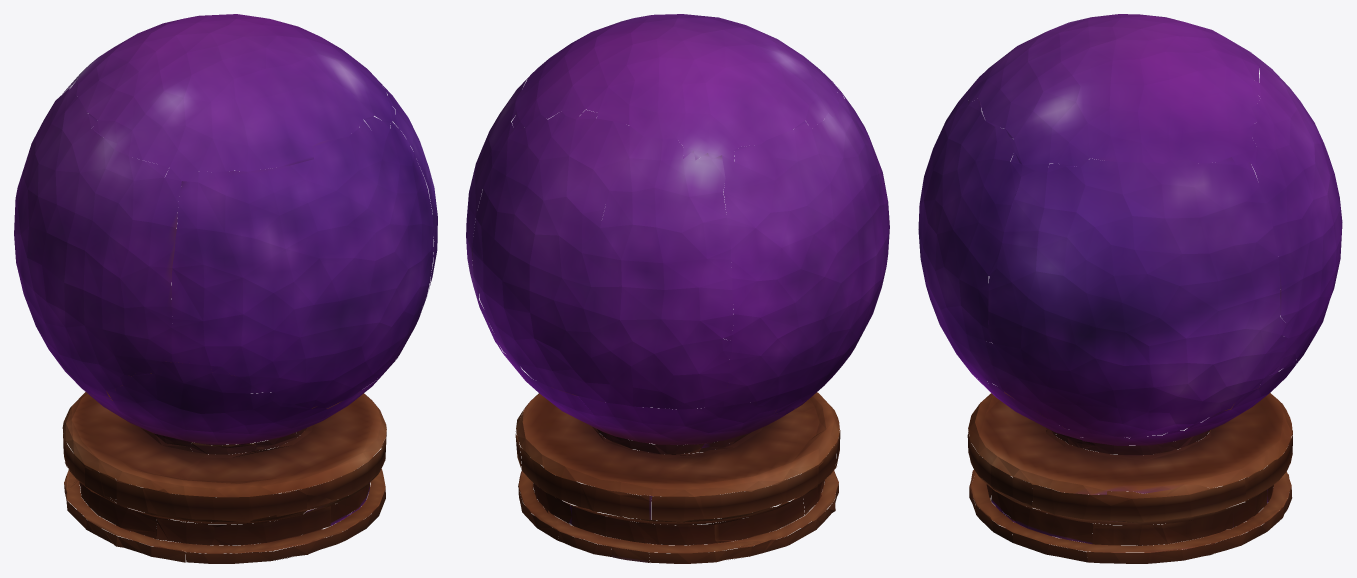
Rendered from cauphale.glb.
The picture shows the model from 3 angles, left to right: view 1: azimuth 30°, elevation 25°; view 2: azimuth 150°, elevation 25°; view 3: azimuth 270°, elevation 25°; orthographic projection.
Visible parts, largest first — view 1: world; view 2: world; view 3: world.
Boxes of the visible parts, bbox=[...] form: world: bbox=[14, 14, 437, 563]; world: bbox=[466, 14, 889, 563]; world: bbox=[918, 14, 1342, 563].
Size of the model in its own units: 0.8283 by 0.9996 by 0.8296.
Materials: 1 (1 with a texture image).
